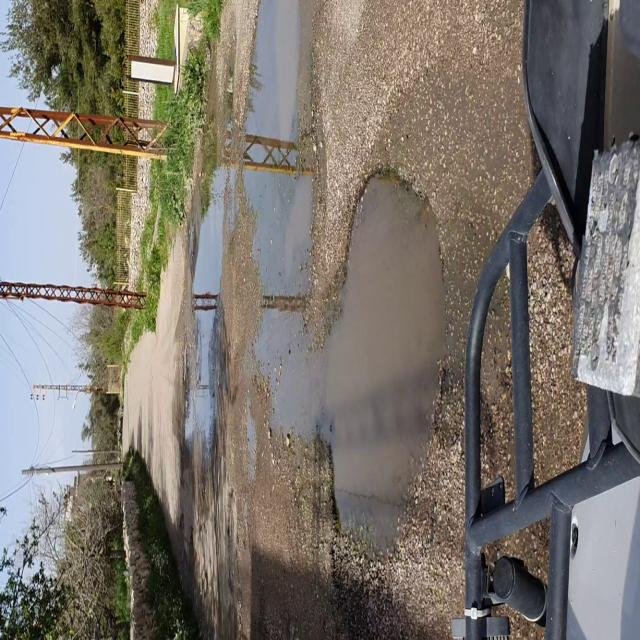Pothole: (330, 165, 454, 556), (242, 1, 324, 261)
